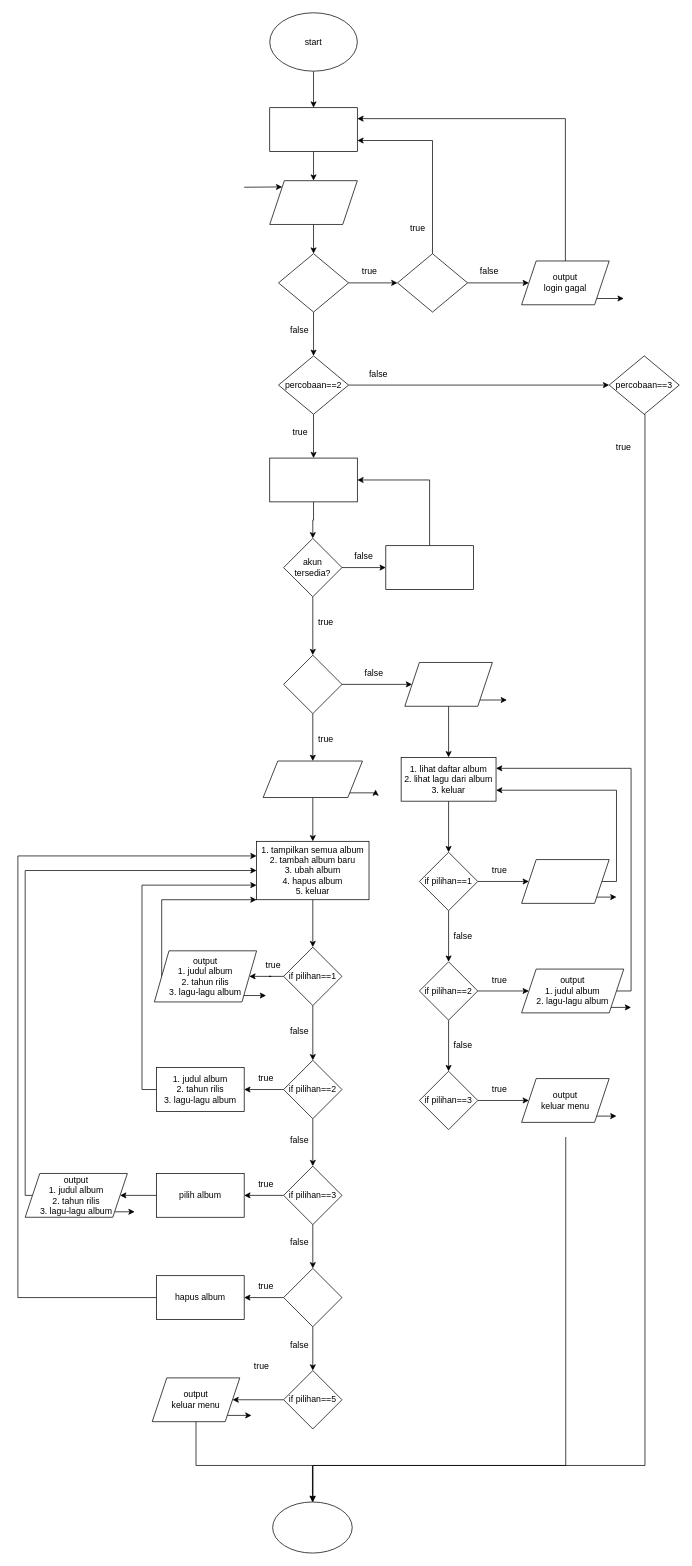
Some shapes in this 692 by 1566 pixel diagram are drawn without their labels. Each missing label, with the centre of its shape:
"1. login 2. register 3. keluar" belongs at [313,129].
"akun admin?" belongs at [312,684].
"end" belongs at [312,1527].
"if pilihan==4" belongs at [312,1297].
"login berhasil?" belongs at [432,282].
"nama/password salah" belongs at [429,567].
"output 1.judul album" belongs at [565,881].
"output menu admin" belongs at [312,779].
"output menu pengguna" belongs at [448,684].
"percobaan==1" belongs at [313,282].
"user login" belongs at [313,479].
